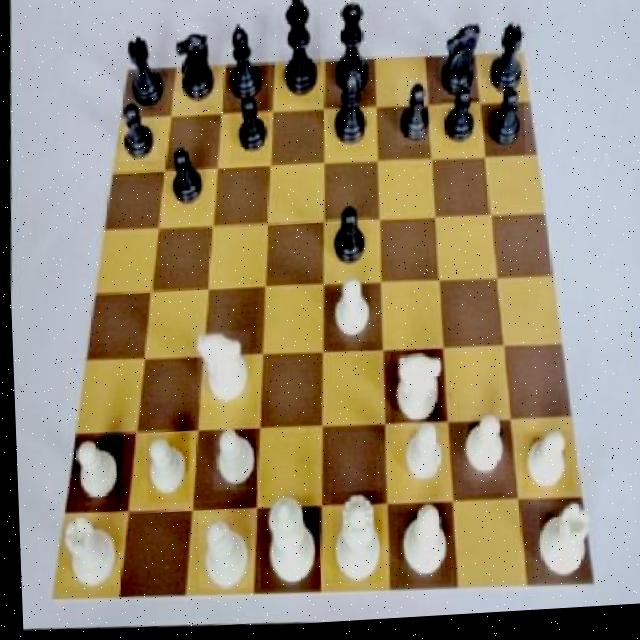bishop: (223, 17, 269, 106), (330, 75, 368, 158)
black-bishop: (275, 0, 325, 108)
black-king: (173, 24, 219, 110), (437, 22, 483, 105)
black-knight: (482, 85, 527, 163), (162, 147, 211, 214), (325, 205, 371, 276), (227, 96, 271, 167), (440, 84, 481, 157), (394, 83, 431, 152), (118, 105, 158, 164)
black-pawn: (327, 0, 374, 104)
black-queen: (123, 28, 168, 114), (490, 25, 528, 99)
black-rook: (391, 504, 450, 590), (192, 514, 251, 592)
white-bishop: (254, 495, 319, 594)
white-king: (193, 330, 251, 408), (386, 352, 442, 429)
white-knight: (68, 438, 121, 505), (518, 436, 571, 501), (141, 433, 187, 506), (458, 414, 504, 487), (208, 429, 257, 496), (396, 426, 444, 493), (329, 282, 371, 351)
white-pawn: (324, 493, 381, 588)
white-queen: (533, 503, 595, 588), (57, 512, 117, 589)
